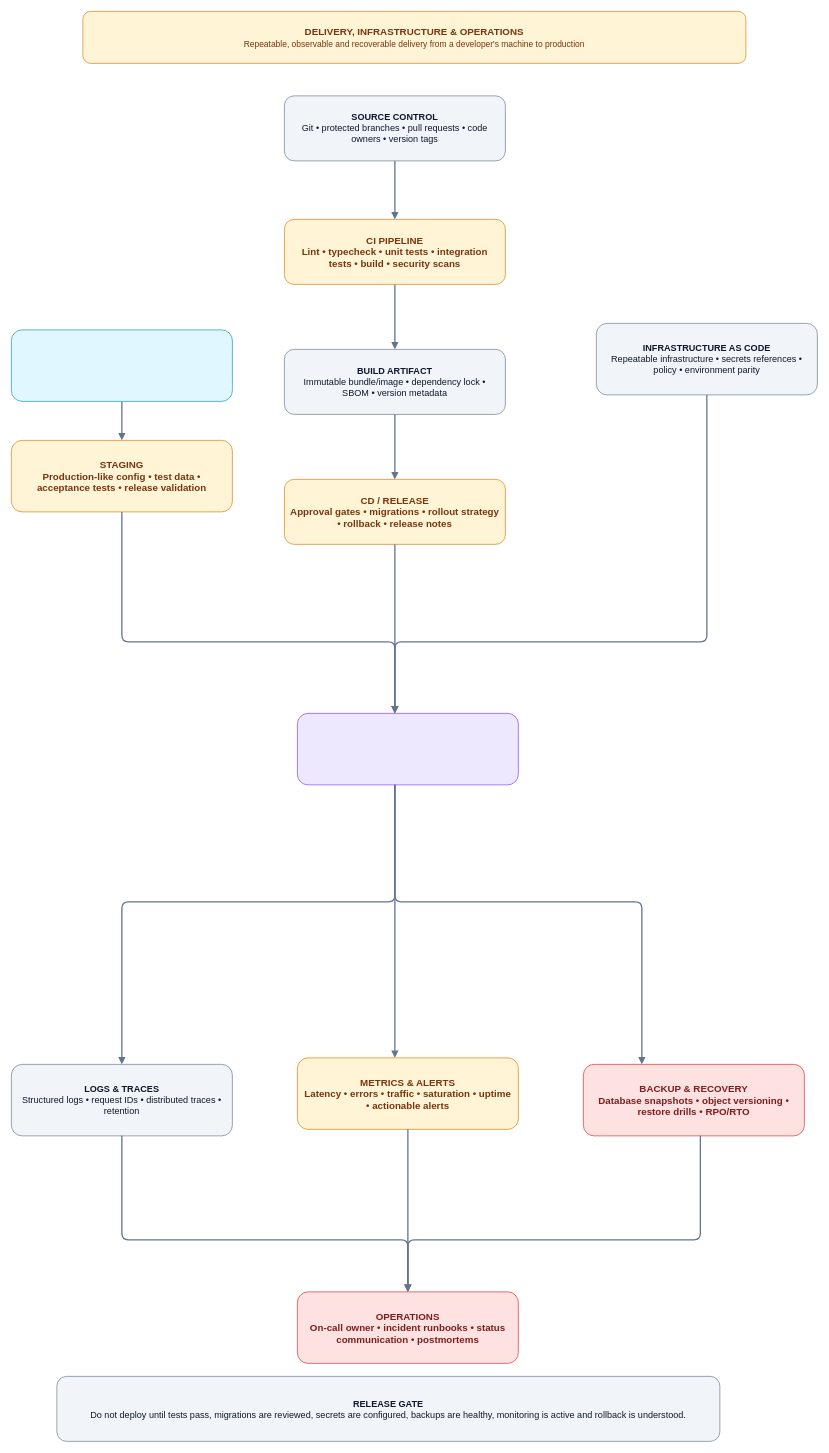
Some shapes in this 829 by 1453 pixel diagram are drawn without their labels. The shapes that lost their labels are listed below. From the top down, each one's box as (x1, y1, x2, y2) in pixels, then its label:
(11, 329, 232, 401): DEVELOPMENT Local environment • mock services • seed data • developer docs
(297, 713, 518, 785): PRODUCTION Web hosting • app runtime • database • object storage • CDN • DNS
